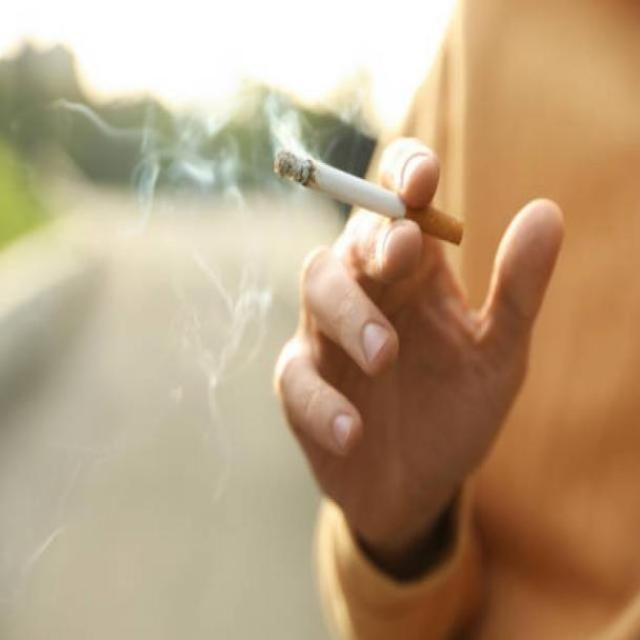rokok: (272, 144, 466, 253)
